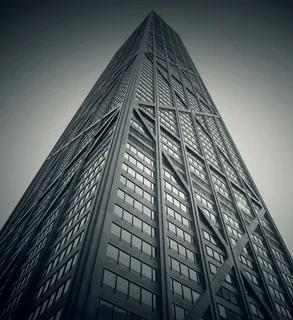high_rise_building: (77, 7, 223, 309)
